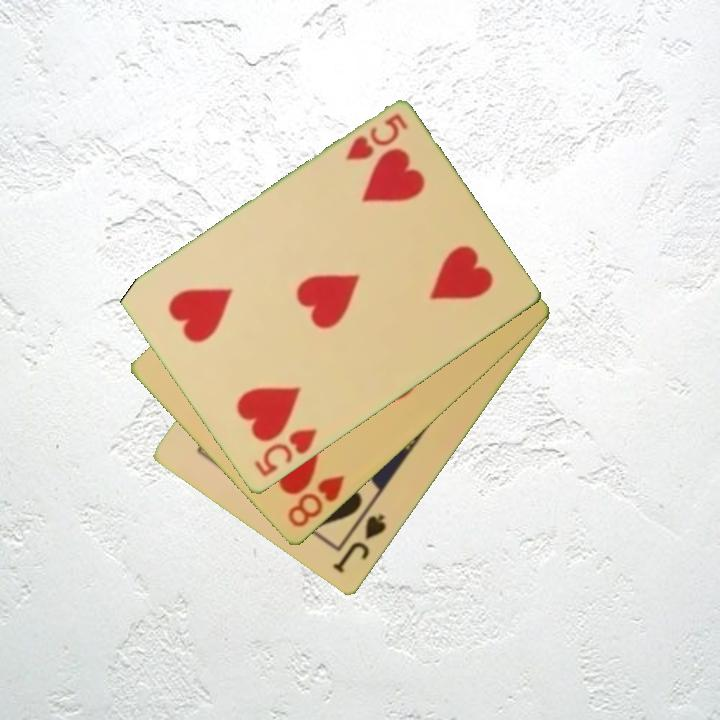5h: (250, 425, 320, 481), (341, 110, 411, 165)
8h: (284, 472, 348, 531)
Js: (329, 511, 389, 577)
